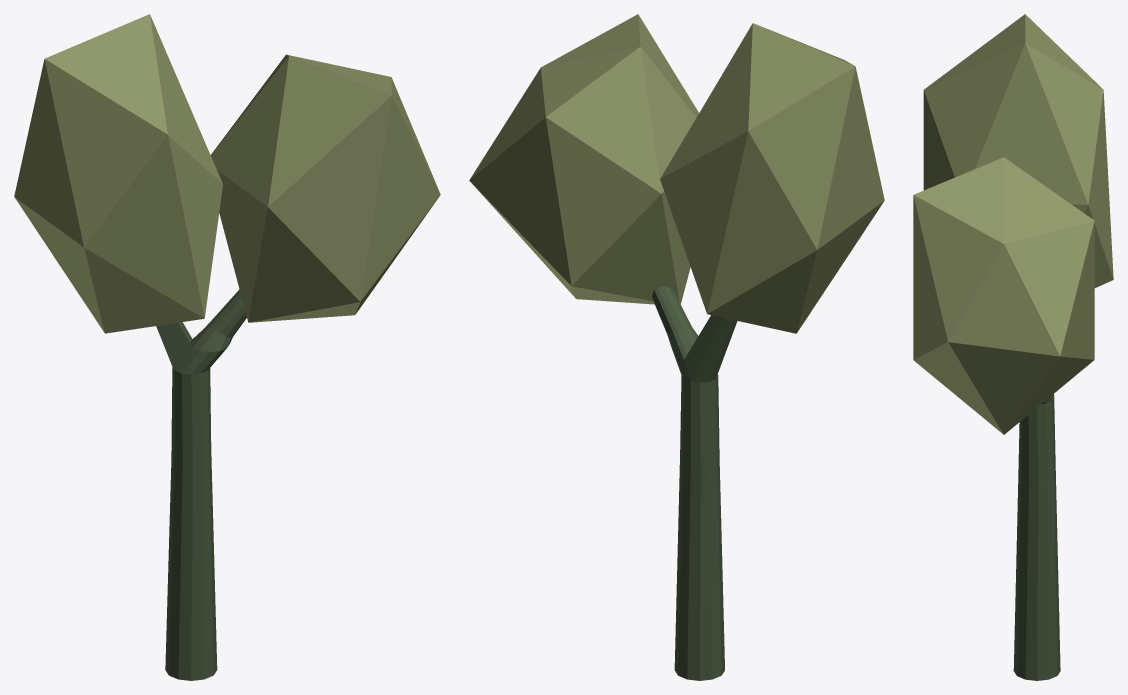
File: tree_city.fbx
3 renders of one model, left to right at view 1: azimuth 30°, elevation 25°; view 2: azimuth 150°, elevation 25°; view 3: azimuth 270°, elevation 25°, orthographic. The views are drawn at different scales.
Visible parts, largest first — view 1: Объект_Куб.070, Объект_Куб.071, Объект_Куб.072; view 2: Объект_Куб.070, Объект_Куб.071, Объект_Куб.072; view 3: Объект_Куб.071, Объект_Куб.070, Объект_Куб.072.
Part boxes in pixels (x1,y1,x2,y2): Объект_Куб.070: (14, 14, 232, 464); Объект_Куб.071: (210, 54, 440, 337); Объект_Куб.072: (165, 447, 217, 680); Объект_Куб.070: (660, 23, 884, 471); Объект_Куб.071: (469, 14, 698, 334); Объект_Куб.072: (674, 456, 724, 680); Объект_Куб.071: (913, 157, 1094, 434); Объект_Куб.070: (923, 14, 1113, 478); Объект_Куб.072: (1013, 474, 1060, 680).
Bounding box in the file's own units: 4.84 × 8.23 × 2.47.
